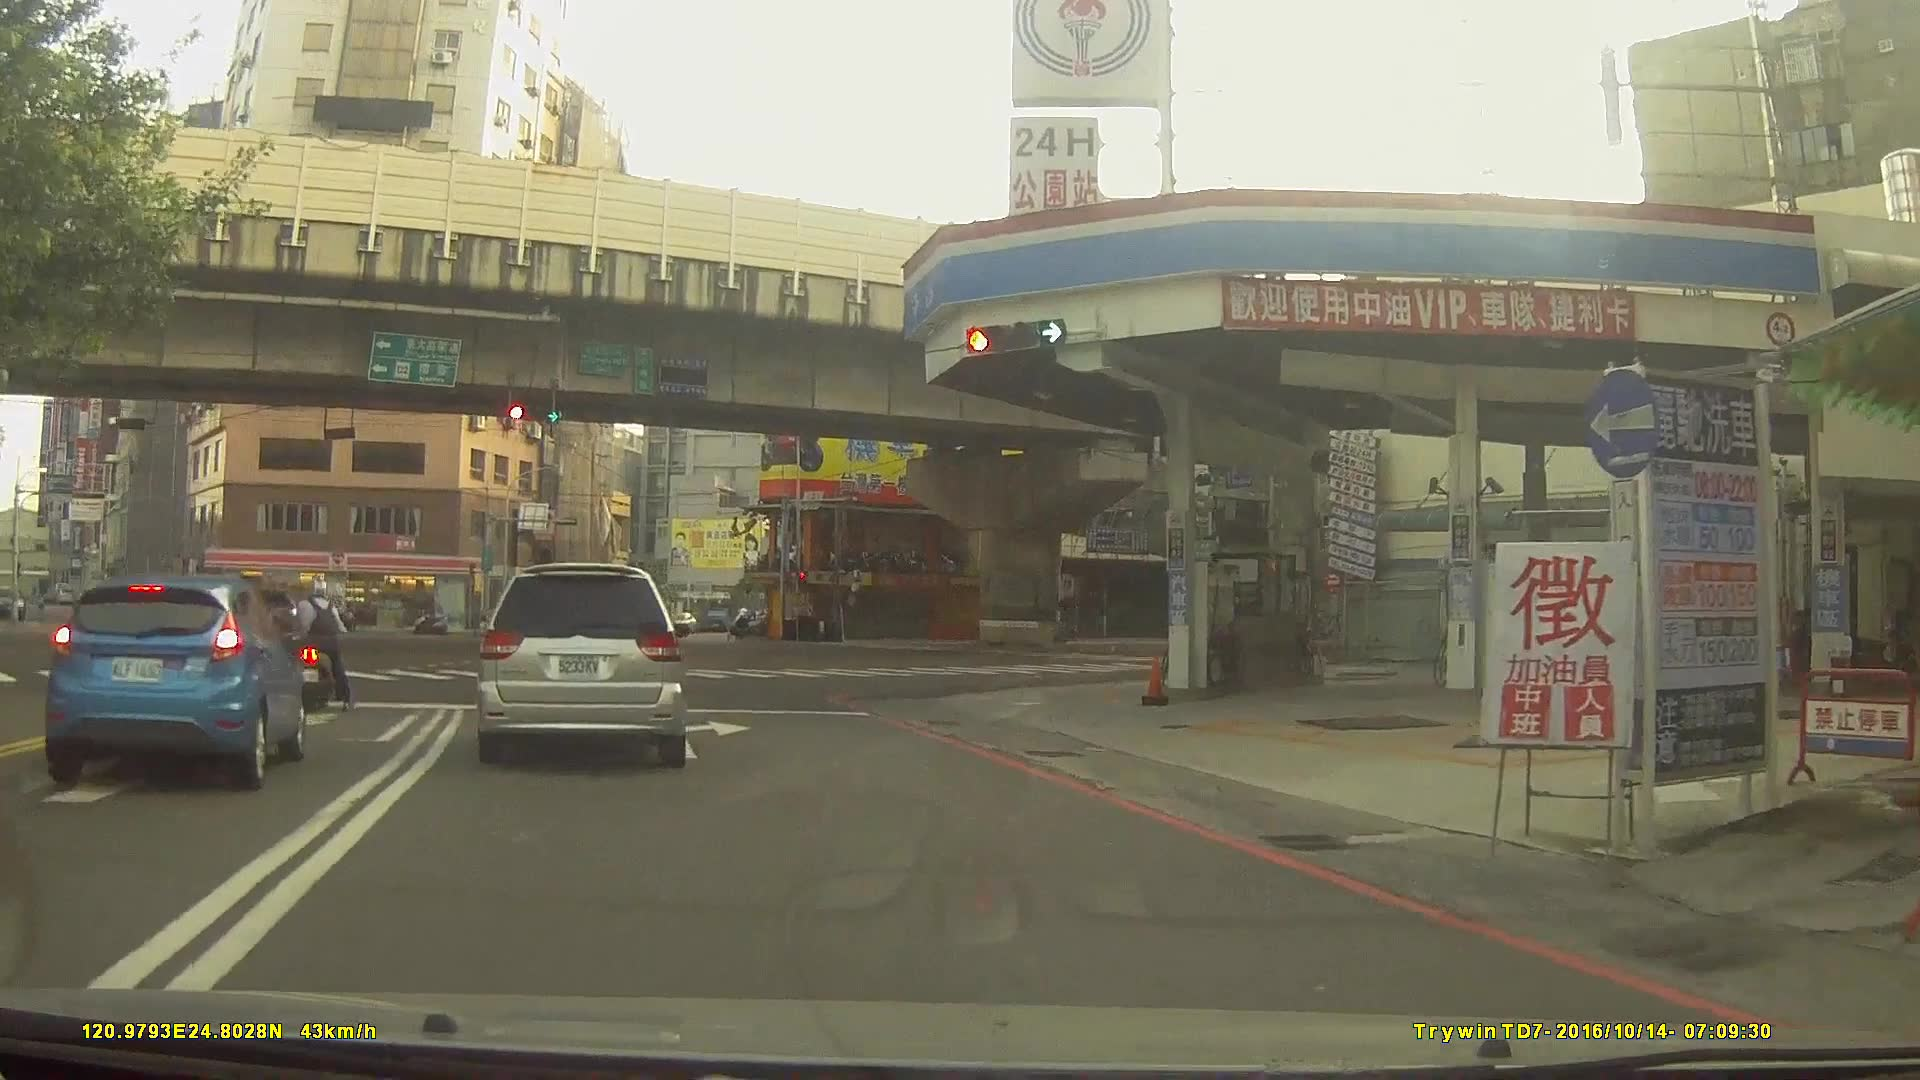rider: (293, 578, 355, 722)
vehicle: (38, 571, 306, 790), (474, 560, 688, 767), (151, 586, 292, 639), (543, 606, 605, 633)
